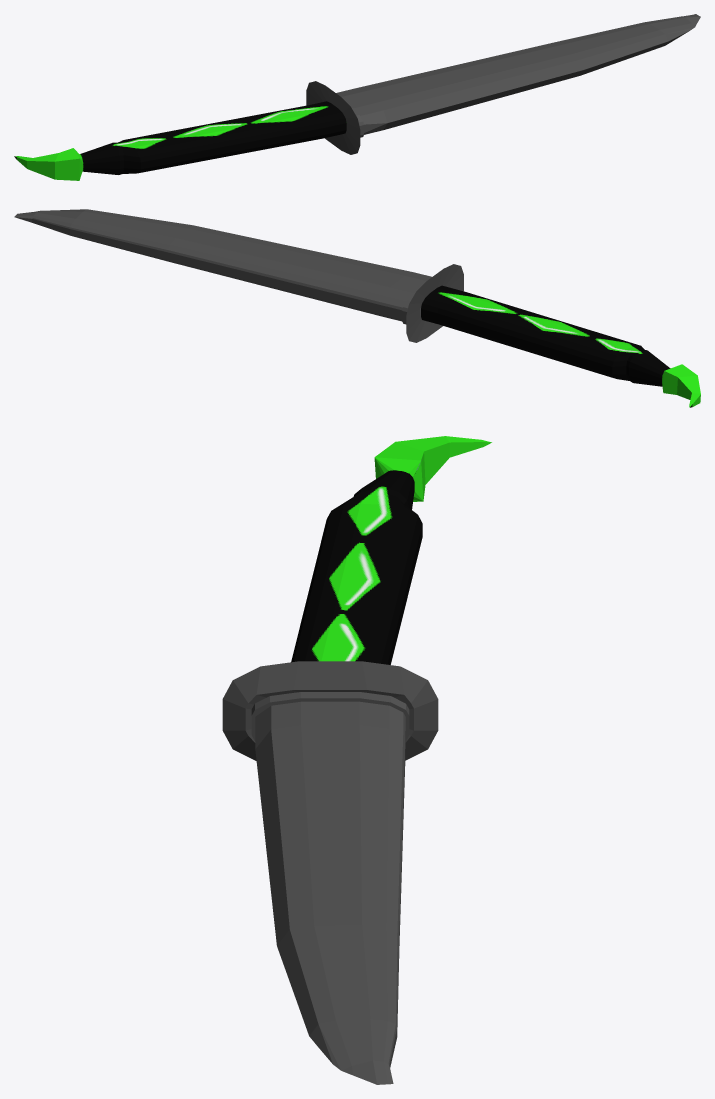
The model's file is Knife.fbx.
3 views of the same model, one above another, from view 1: azimuth 30°, elevation 25°; view 2: azimuth 150°, elevation 25°; view 3: azimuth 270°, elevation 25° (orthographic). The views are drawn at different scales.
Parts seen in each view (by area): view 1: Knife; view 2: Knife; view 3: Knife.
Boxes of the visible parts, bbox=[...] form: Knife: bbox=[14, 14, 700, 180]; Knife: bbox=[14, 209, 700, 407]; Knife: bbox=[222, 436, 491, 1084].
Size of the model in its own units: 3108 by 241 by 552.
